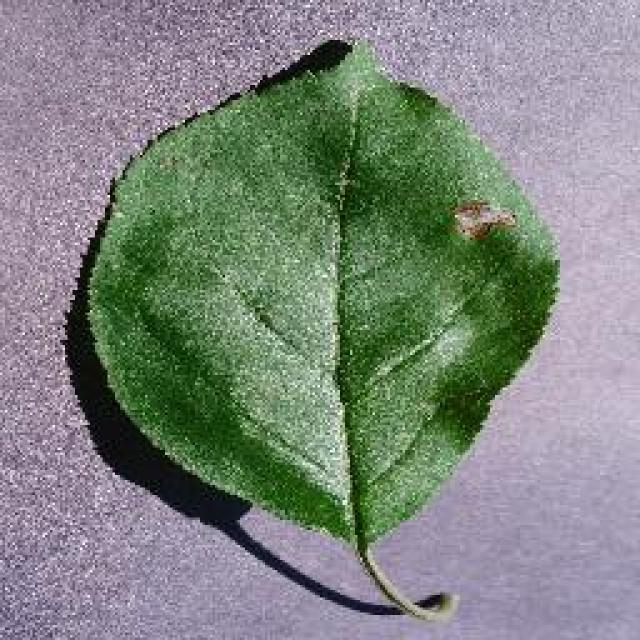apple black rot: (60, 32, 562, 620)
